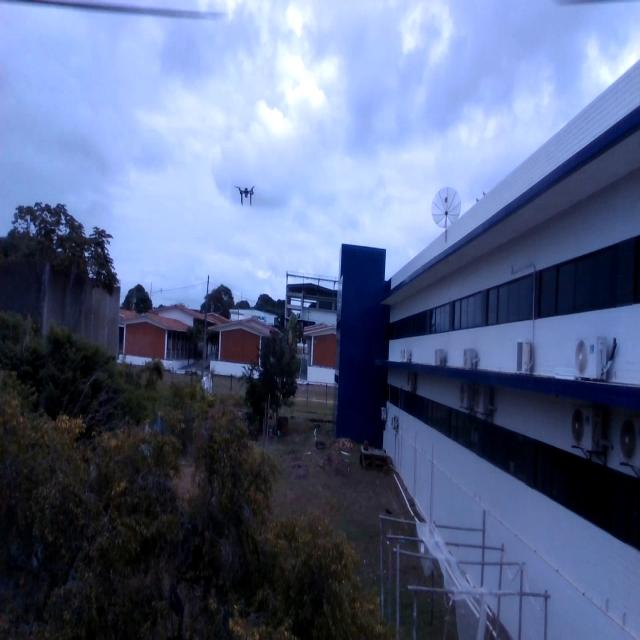-uav-: (232, 176, 260, 215)
